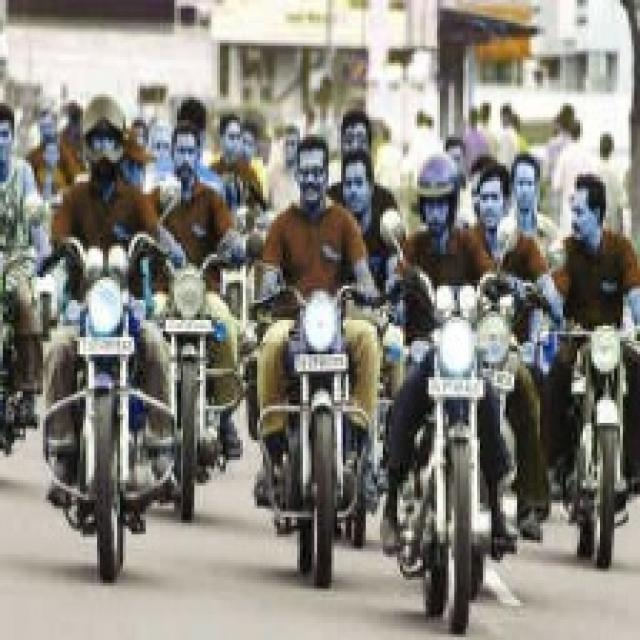Motorcycle: (407, 296, 507, 634), (64, 246, 158, 573), (276, 288, 364, 561), (148, 258, 242, 512), (573, 315, 629, 577)
